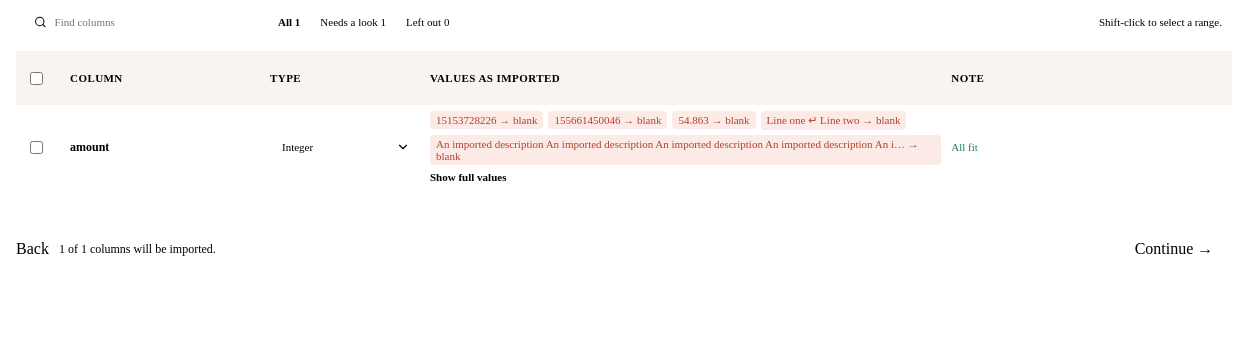
Test: TableImportFlow › keeps five samples and conversion outcomes, with an accessible disclosure for long values
Check: the text "15153728226 → blank" is shown, box [430,111,544,129]
Check: the text "155661450046 → blank" is shown, box [548,111,668,129]
Step 1. Click the button with aria-label "Show full values for amount" → [468, 177], box [430,171,506,183]
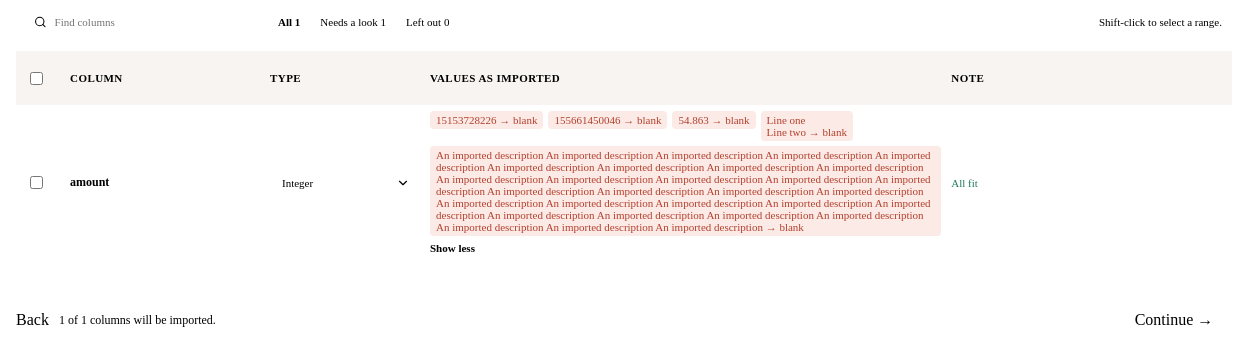
Check: the button named "Show full values for amount" is expanded
Step 2. Click the button with aria-label "Show less for amount" → [452, 248], box [430,242,475,254]
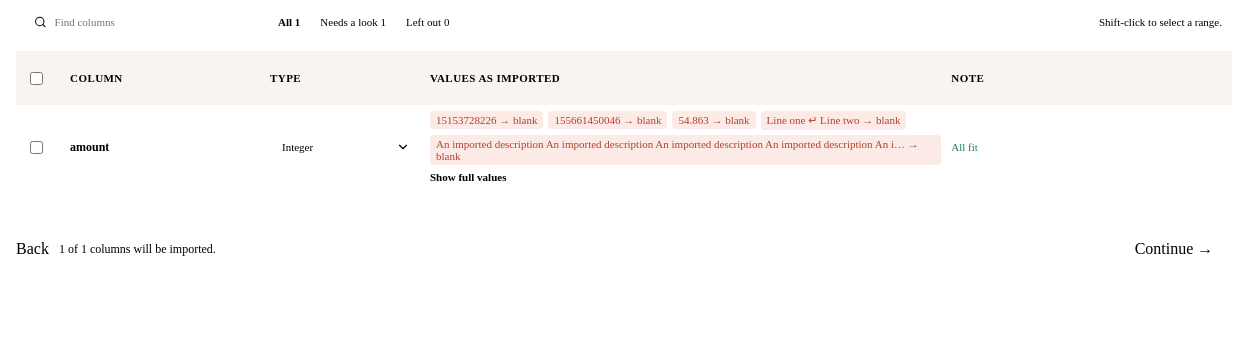
Check: the button named "Show less for amount" is collapsed, box [430,171,506,183]
